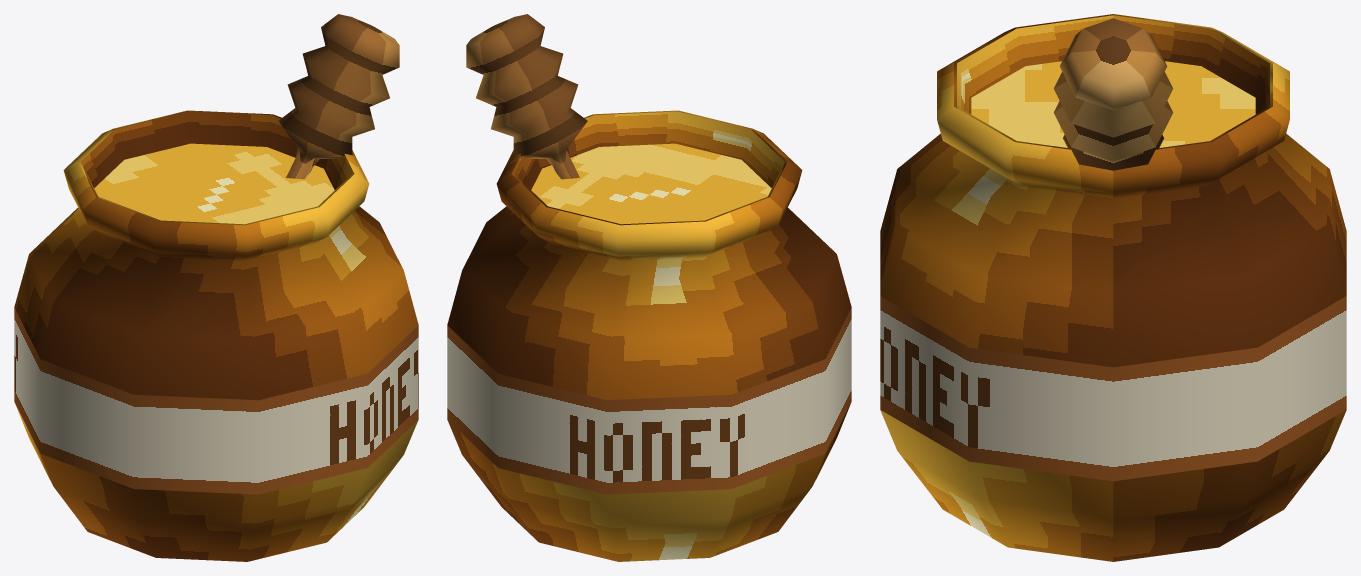
Rendered from food3-honeyJar.glb.
3 renders of one model, left to right at view 1: azimuth 30°, elevation 25°; view 2: azimuth 150°, elevation 25°; view 3: azimuth 270°, elevation 25°, orthographic. The views are drawn at different scales.
Visible parts, largest first — view 1: food3.honeyJar; view 2: food3.honeyJar; view 3: food3.honeyJar.
Part boxes in pixels (left/top/right/bottom): food3.honeyJar: left=14, top=14, right=418, bottom=561; food3.honeyJar: left=447, top=14, right=851, bottom=561; food3.honeyJar: left=880, top=14, right=1346, bottom=561.
Size of the model in its own units: 1.38 by 1.68 by 1.3.
Materials: 4 (4 with a texture image).
